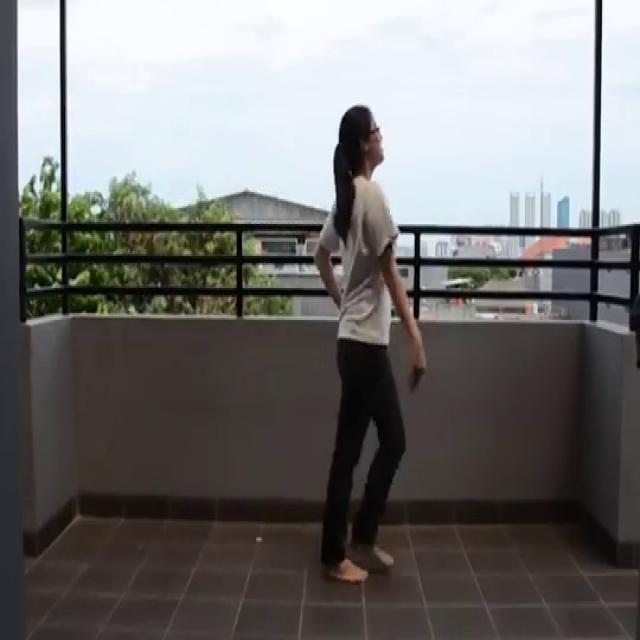normal: (309, 89, 435, 595)
